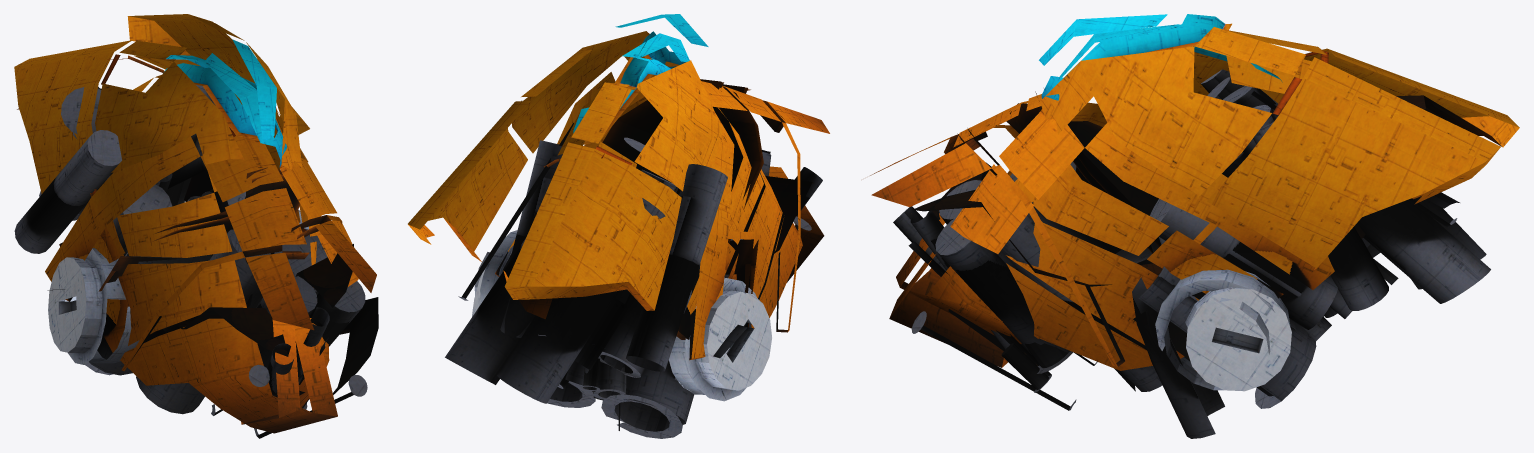
File: MonsterA_die5.obj
The picture shows the model from 3 angles, left to right: view 1: azimuth 30°, elevation 25°; view 2: azimuth 150°, elevation 25°; view 3: azimuth 270°, elevation 25°; orthographic projection. The views are drawn at different scales.
Visible parts, largest first — view 1: Box001; view 2: Box001; view 3: Box001.
Boxes of the visible parts, x1=… form: Box001: x1=14, y1=14, x2=378, y2=438; Box001: x1=408, y1=14, x2=829, y2=438; Box001: x1=870, y1=14, x2=1519, y2=438.
Bounding box in the file's own units: 131 × 181 × 267.
1 material, 1 textured.
